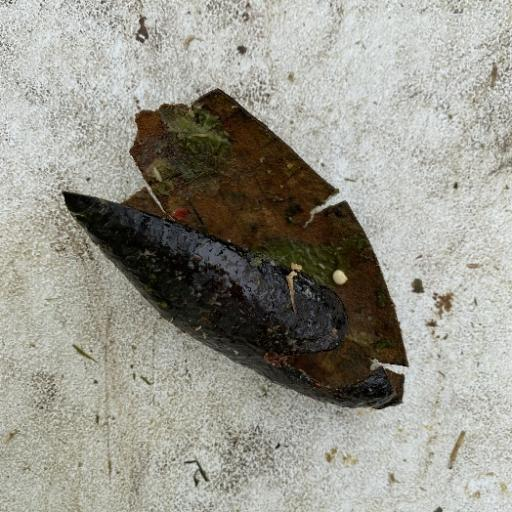Waste: (60, 87, 410, 410)
